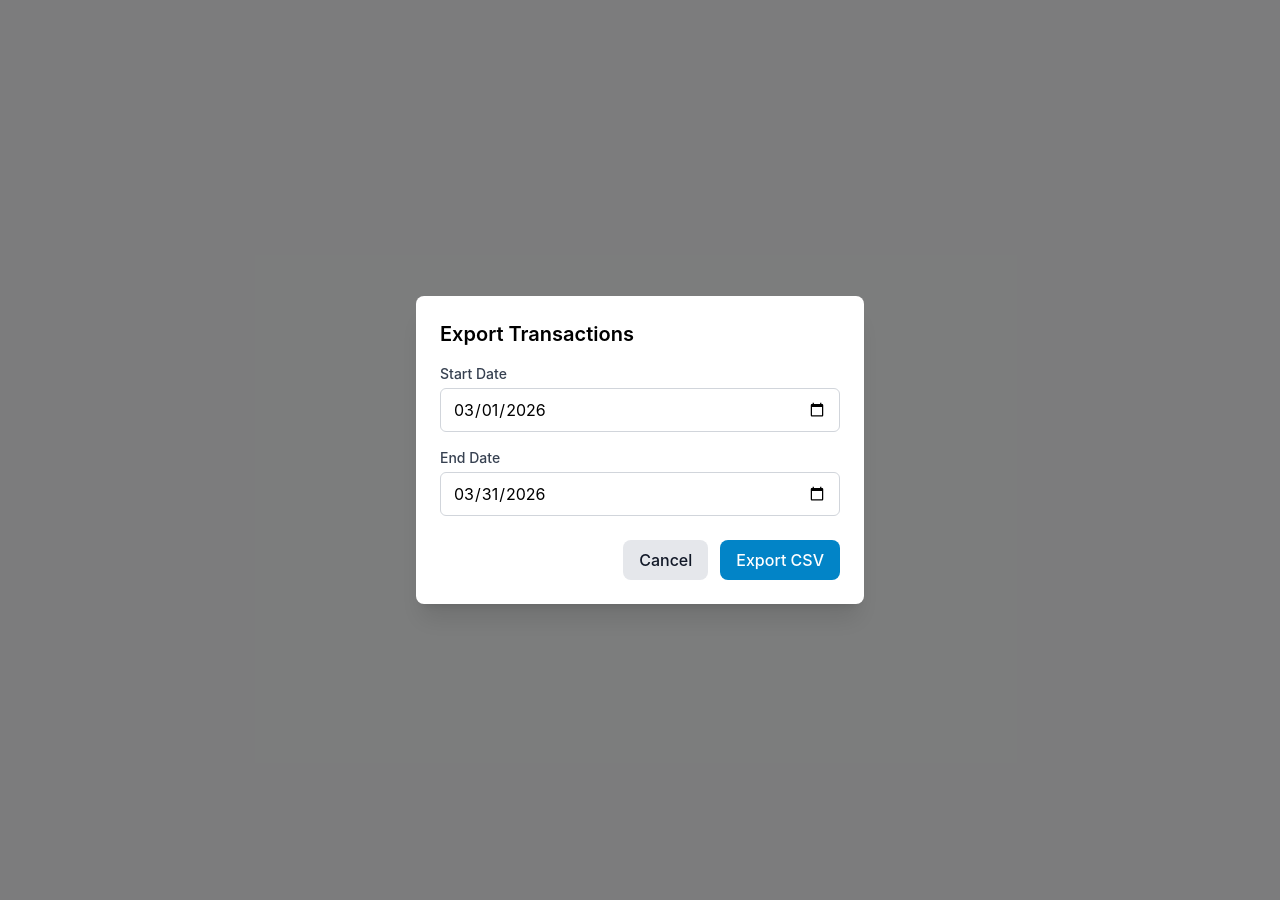
ExportModal › should show error on export failure
The width and height of the screenshot is (1280, 900).
Click the button "Export CSV" at (780, 560), box 720,540 -> 840,580
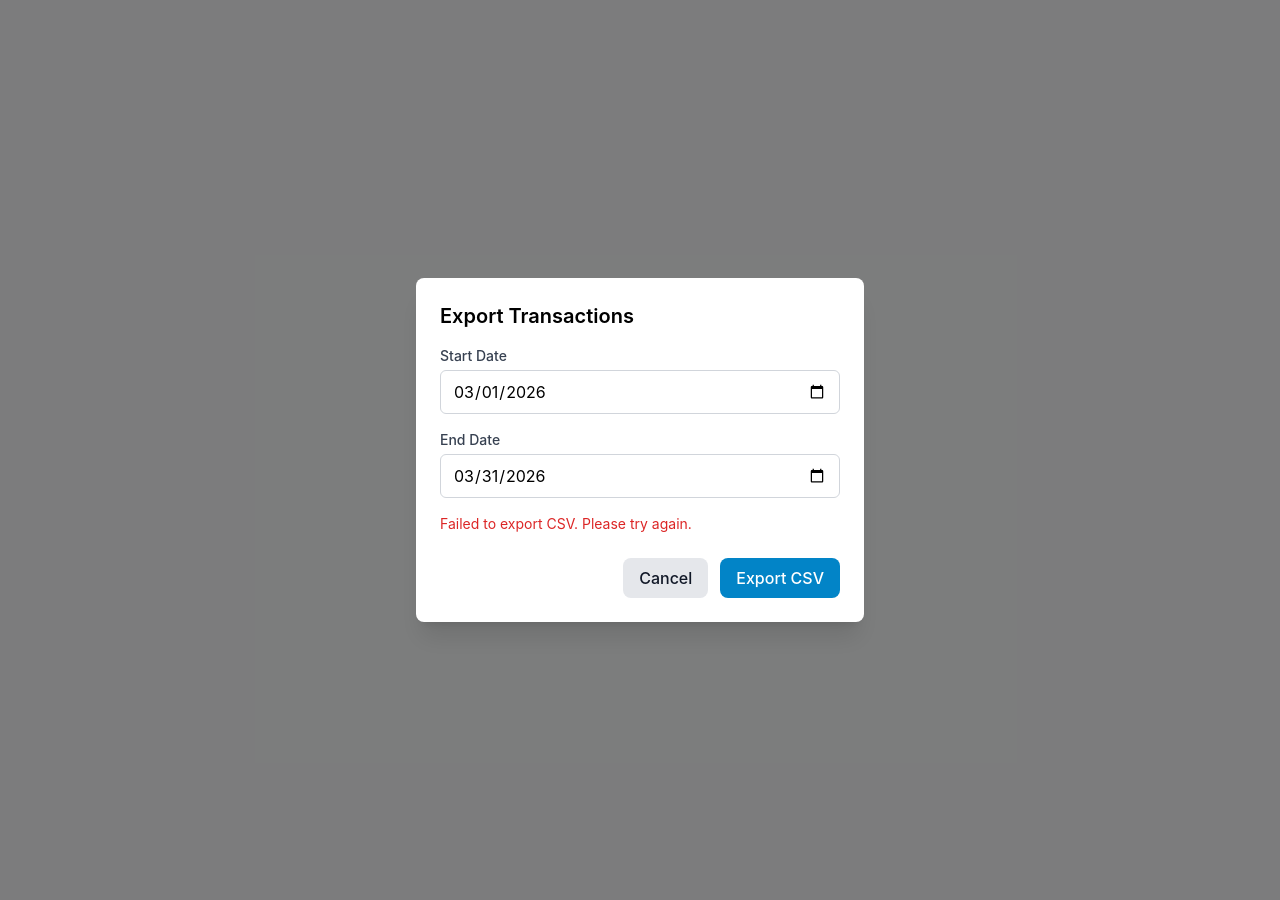
Check: the text "Failed to export CSV. Please try again." is shown, box 440,515 -> 692,532
